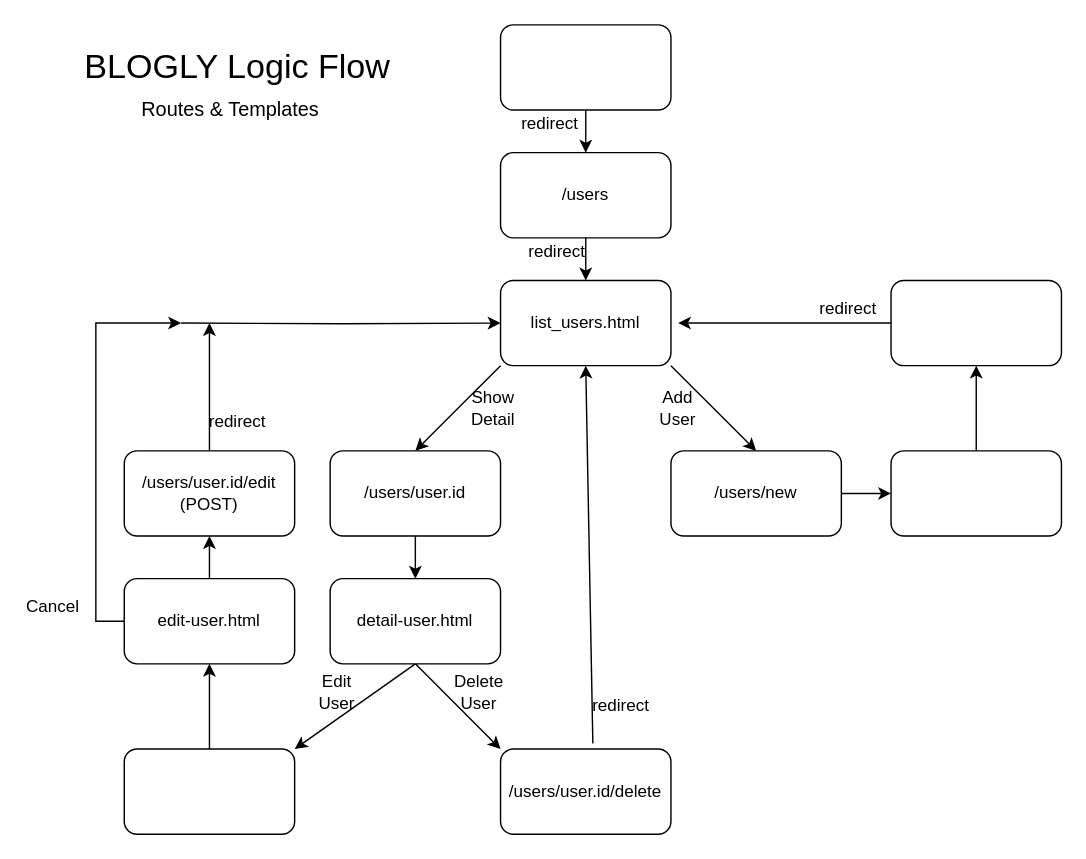
This 1086x859 diagram has some shape labels left out. The centre of each missing label's shape, as x and y in pixels:
"/ (root)" goes at point 585,66.
"/users/new (POST)" goes at point 975,322.
"/users/user.id/edit" goes at point 209,791.
"add_user.html" goes at point 975,492.
